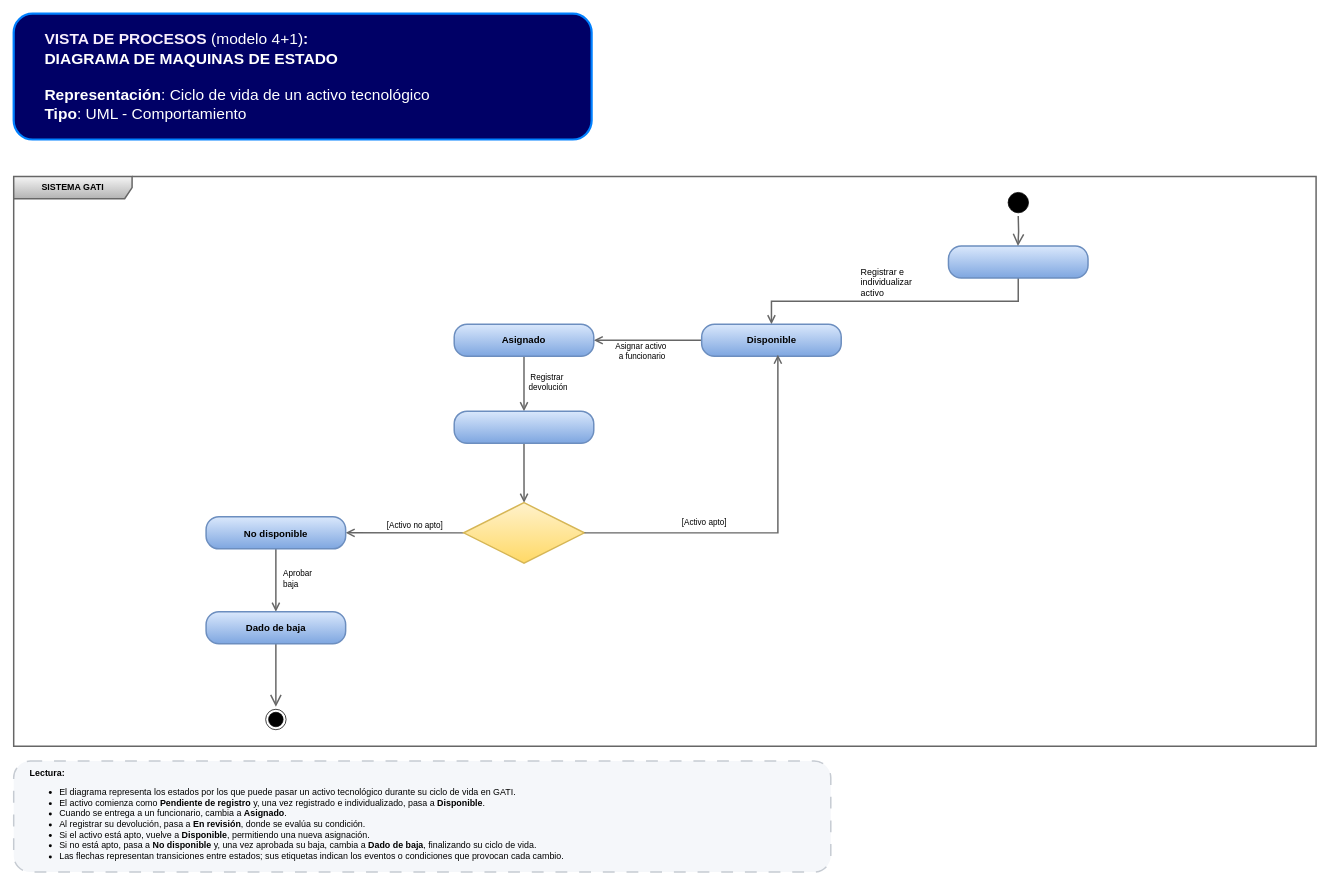
Some shapes in this 1330 by 886 pixel diagram are drawn without their labels. Here are the shapes that lost their labels. From the top down, the centre of each, then its label:
At (1017,261): "Pendiente de registro".
At (523,427): "En revisión".
At (524,532): "Condición del activo".
